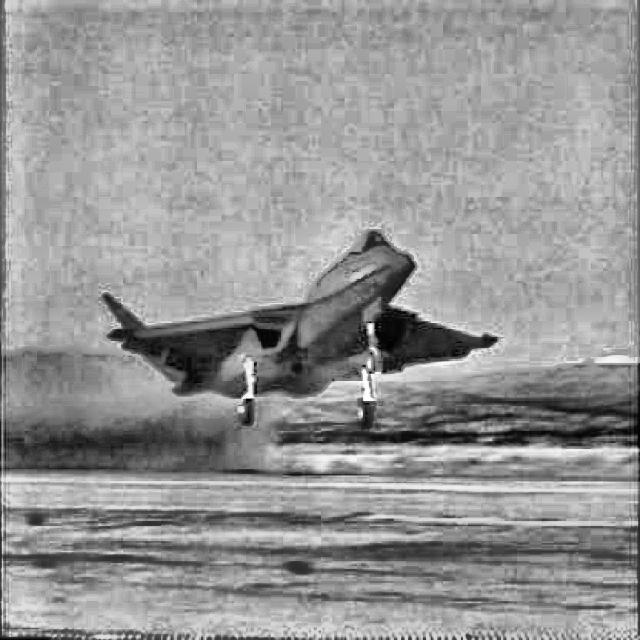YF23: (102, 228, 500, 430)
